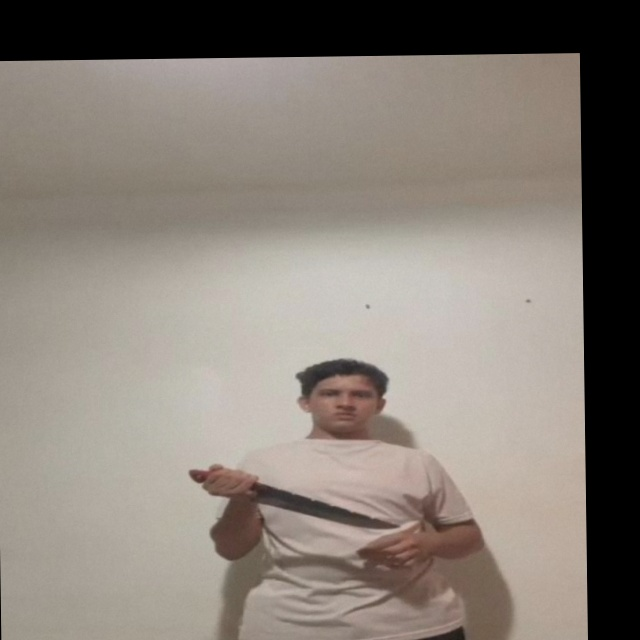Sharp-Object: (249, 483, 400, 530)
